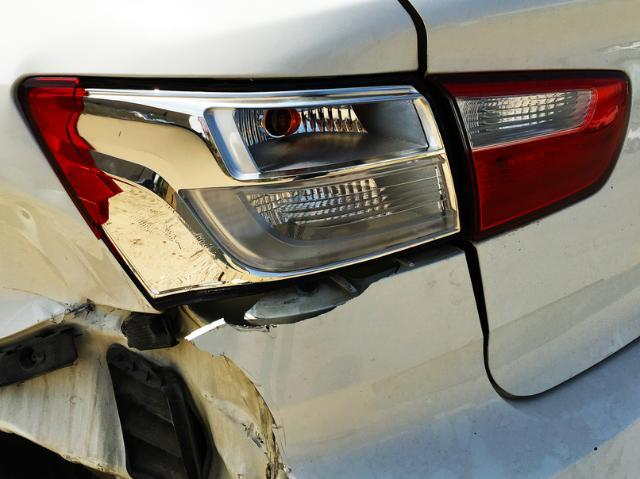Bumper: (0, 288, 590, 479)
Light: (13, 79, 462, 258)
